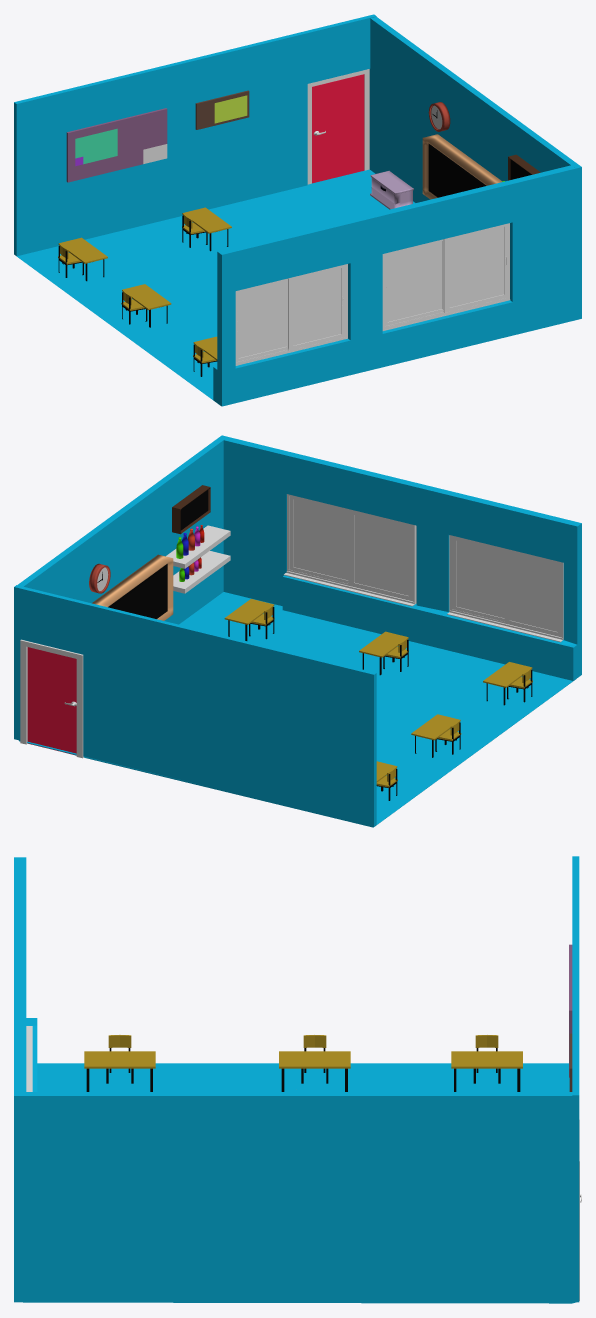
Rendered from uploads_files_3012896_CLASSROOM.dae.
3 views of the same model, one above another, from view 1: azimuth 30°, elevation 25°; view 2: azimuth 150°, elevation 25°; view 3: azimuth 270°, elevation 25° (orthographic). The views are drawn at different scales.
Parts seen in each view (by area): view 1: Plane.001, Cube.006, Door, Window.R.001, Window.L.001, Window.R, Cube.001, Window.L, Cube, Cube.005, DoorFrame, Cube.007 (+4 smaller); view 2: Plane.001, Cube.001, Window.L.001, Door, Window.R.001, Window.L, Window.R, Cube, DoorFrame, WindowFrame.001, Cube.002, WindowFrame (+3 smaller); view 3: Plane.001, Cube.001.
Boxes of the visible parts, x1,y1,x2,y2 form: Plane.001: (14, 14, 581, 406); Cube.006: (66, 108, 167, 182); Door: (312, 74, 364, 183); Window.R.001: (443, 224, 507, 312); Window.L.001: (385, 239, 443, 325); Window.R: (287, 265, 344, 350); Cube.001: (58, 207, 231, 376); Window.L: (236, 278, 287, 361); Cube: (422, 134, 502, 199); Cube.005: (195, 90, 249, 129); DoorFrame: (307, 69, 369, 184); Cube.007: (370, 170, 413, 209); Plane.001: (14, 435, 581, 827); Cube.001: (224, 599, 532, 800); Window.L.001: (348, 509, 412, 600); Door: (27, 647, 76, 755); Window.R.001: (289, 496, 348, 583); Window.L: (504, 549, 561, 636); Window.R: (452, 537, 504, 621); Cube: (92, 554, 173, 620); DoorFrame: (20, 639, 83, 758); WindowFrame.001: (286, 494, 416, 603); Cube.002: (172, 485, 210, 534); WindowFrame: (449, 535, 563, 639); Plane.001: (14, 856, 579, 1303); Cube.001: (84, 1035, 522, 1091).
Size of the model in its own units: 40.07 by 40.25 by 16.55.
